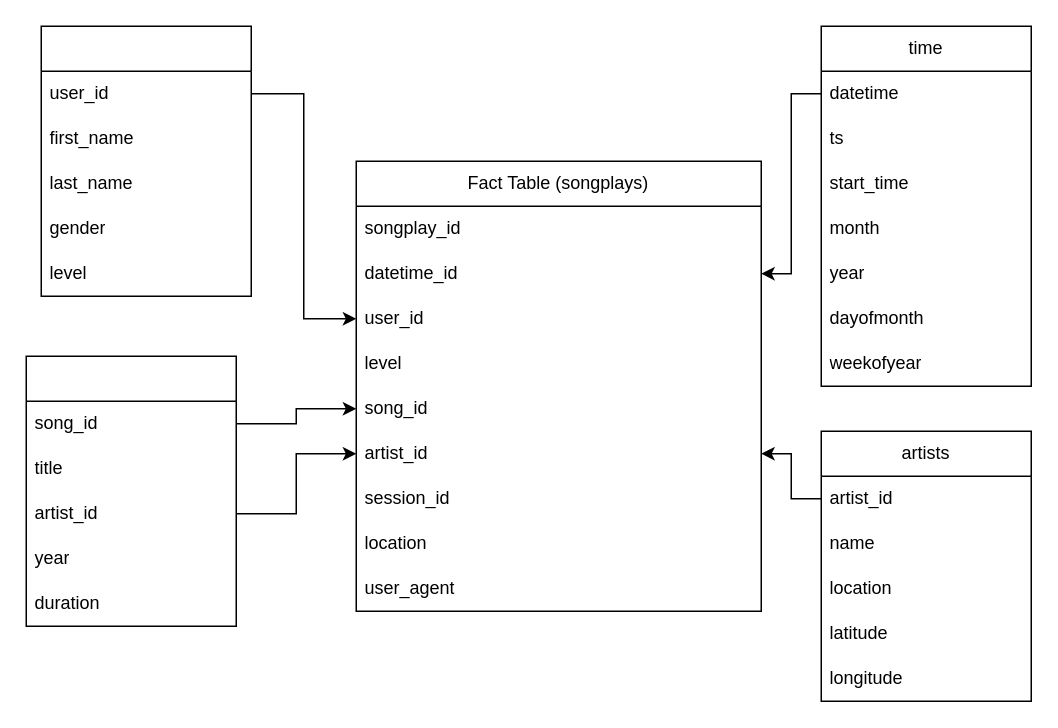
This 1058x728 diagram has some shape labels left out. Here are the shapes that lost their labels. From the top down, the box of each, then its label:
(40, 25, 251, 296): users
(25, 355, 236, 626): songs
